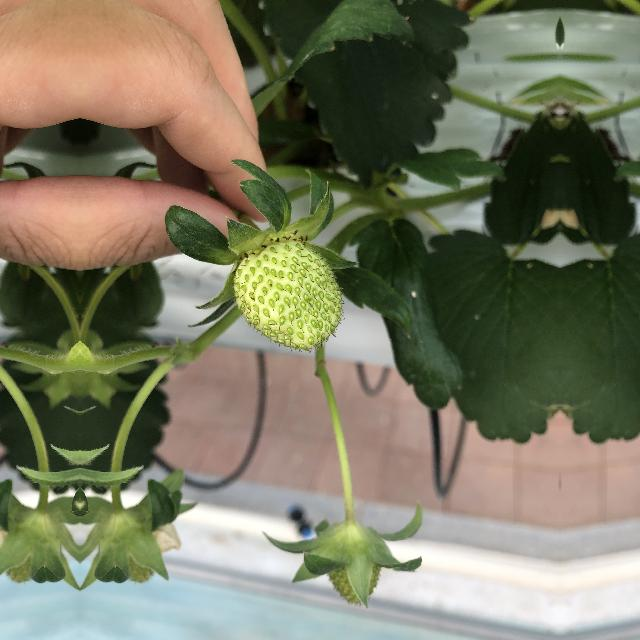Health_25: (230, 240, 346, 358)
